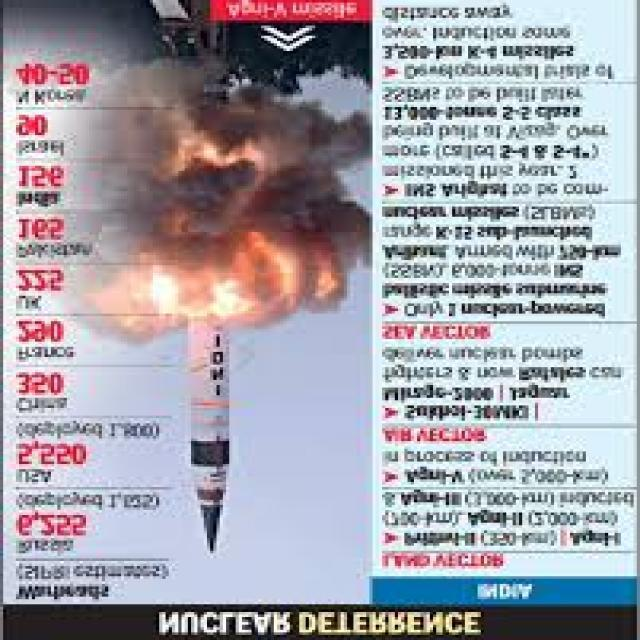Missile: (181, 310, 242, 576)
